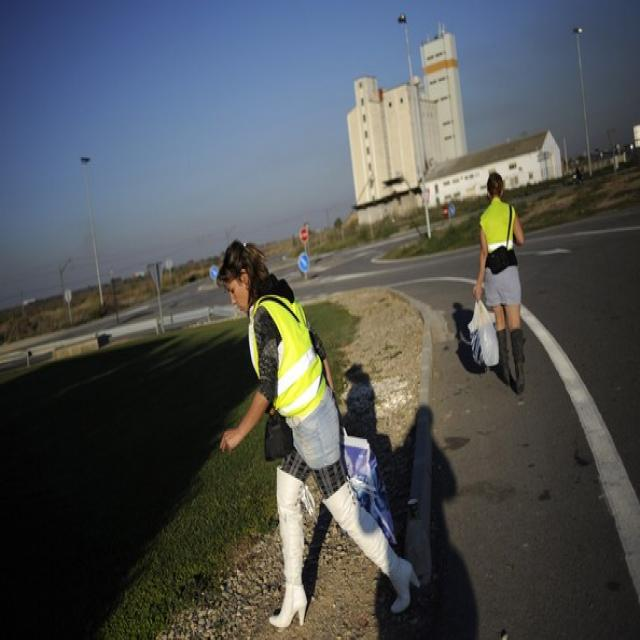Reflective-Jacket: (246, 284, 332, 434), (472, 199, 524, 277)
